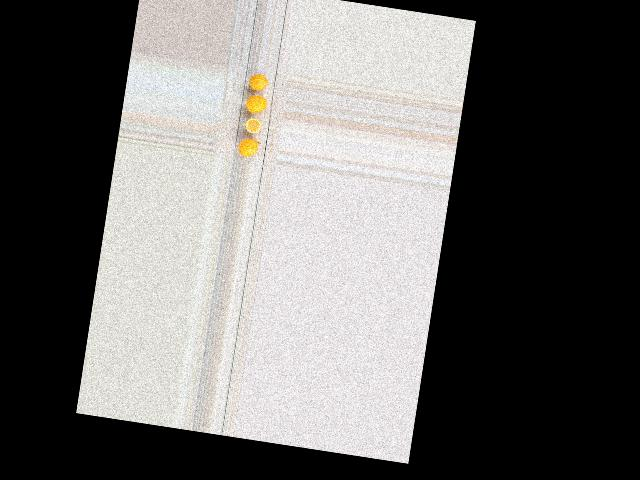lemon: (236, 137, 262, 158)
